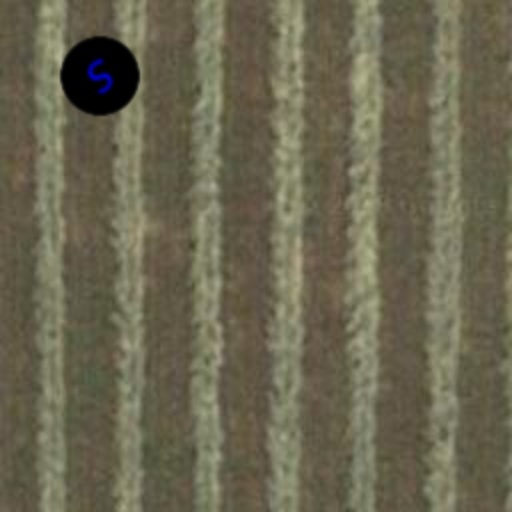circle: (44, 20, 156, 132)
